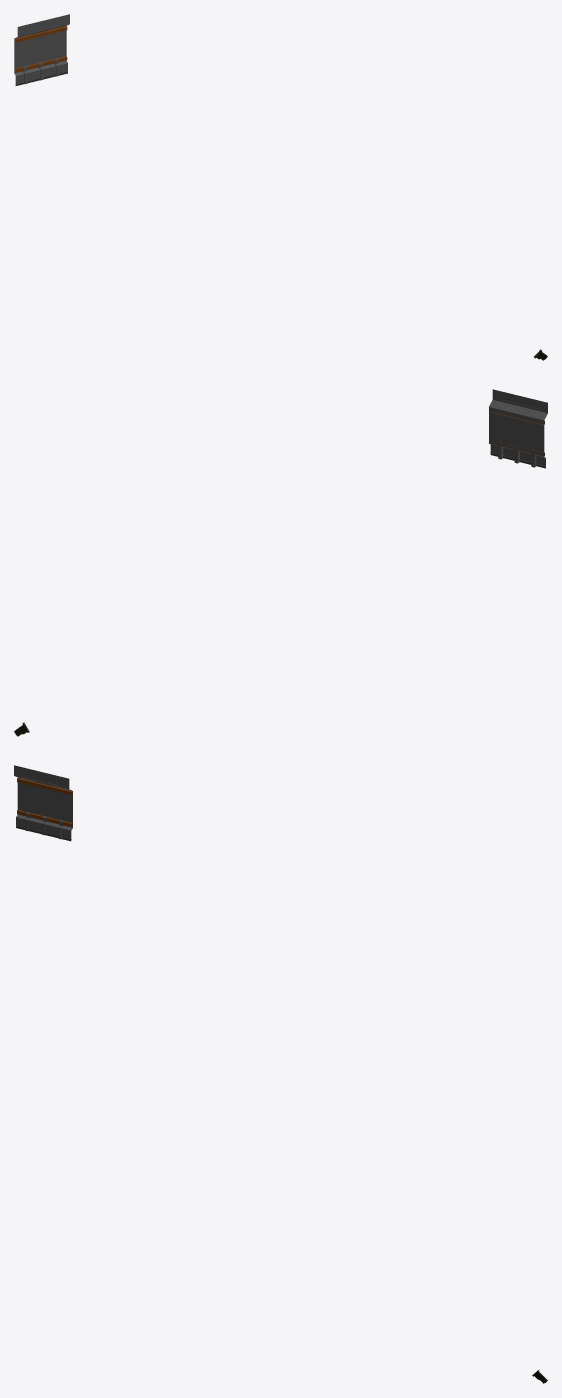
File: Wall_Empty_Plane.obj
3 views of the same model, one above another, from view 1: azimuth 30°, elevation 25°; view 2: azimuth 150°, elevation 25°; view 3: azimuth 330°, elevation 25° (orthographic). The views are drawn at different scales.
Visible parts, largest first — view 1: Wall_Empty_Plane.111; view 2: Wall_Empty_Plane.111; view 3: Wall_Empty_Plane.111.
Part boxes in pixels (bbox=[...]): Wall_Empty_Plane.111: bbox=[14, 14, 69, 85]; Wall_Empty_Plane.111: bbox=[489, 389, 547, 468]; Wall_Empty_Plane.111: bbox=[14, 765, 72, 841].
Size of the model in its own units: 39.49 by 32.83 by 2.46.
